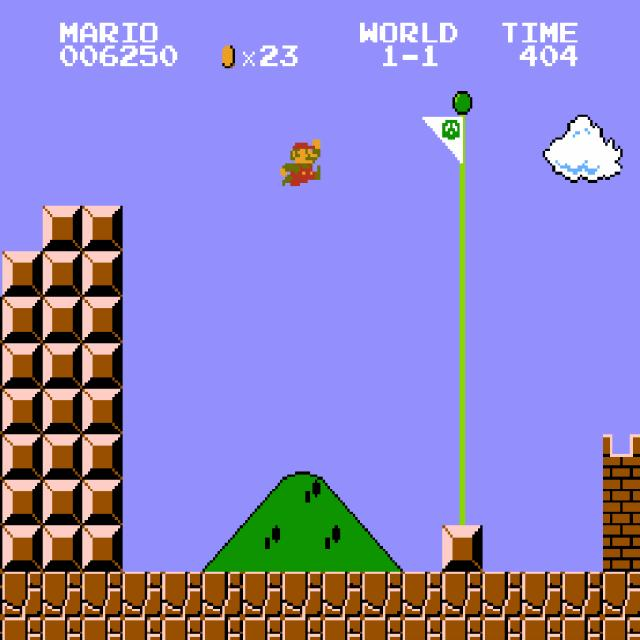goal_pole: (442, 114, 483, 160), (442, 160, 483, 206), (442, 297, 483, 343), (442, 434, 483, 480), (442, 480, 483, 526), (442, 69, 483, 114), (442, 206, 483, 251), (442, 252, 483, 297), (442, 343, 483, 388), (442, 389, 483, 434)
hard_block: (2, 297, 43, 343), (2, 434, 43, 480), (2, 480, 43, 526), (42, 297, 83, 343), (42, 434, 83, 480), (42, 480, 83, 526), (82, 297, 123, 343), (82, 434, 123, 480), (82, 480, 123, 526), (2, 252, 43, 297), (2, 343, 43, 388), (2, 389, 43, 434), (2, 526, 43, 571), (42, 206, 83, 251), (42, 252, 83, 297), (42, 343, 83, 388), (42, 389, 83, 434), (42, 526, 83, 571), (82, 206, 123, 251), (82, 252, 123, 297), (82, 343, 123, 388), (82, 389, 123, 434), (82, 526, 123, 571), (442, 526, 483, 571), (0, 342, 2, 388), (0, 388, 2, 434), (0, 525, 2, 571), (0, 297, 2, 342), (0, 434, 2, 479), (0, 480, 2, 525)
little_mario: (277, 137, 320, 186)
undestructible_block: (2, 572, 43, 617), (42, 572, 83, 617), (82, 572, 123, 617), (122, 572, 163, 617), (162, 572, 203, 617), (202, 572, 243, 617), (242, 572, 283, 617), (282, 572, 323, 617), (322, 572, 363, 617), (362, 572, 403, 617), (402, 572, 443, 617), (442, 572, 483, 617), (482, 572, 523, 617), (522, 572, 563, 617), (562, 572, 603, 617), (603, 572, 640, 617), (2, 617, 43, 640), (42, 617, 83, 640), (82, 617, 123, 640), (122, 617, 163, 640), (162, 617, 203, 640), (202, 617, 243, 640), (242, 617, 283, 640), (282, 617, 323, 640), (322, 617, 363, 640), (362, 617, 403, 640), (402, 617, 443, 640), (442, 617, 483, 640), (482, 617, 523, 640), (522, 617, 563, 640), (562, 617, 603, 640), (603, 617, 640, 640), (0, 571, 2, 617), (0, 617, 2, 639)
